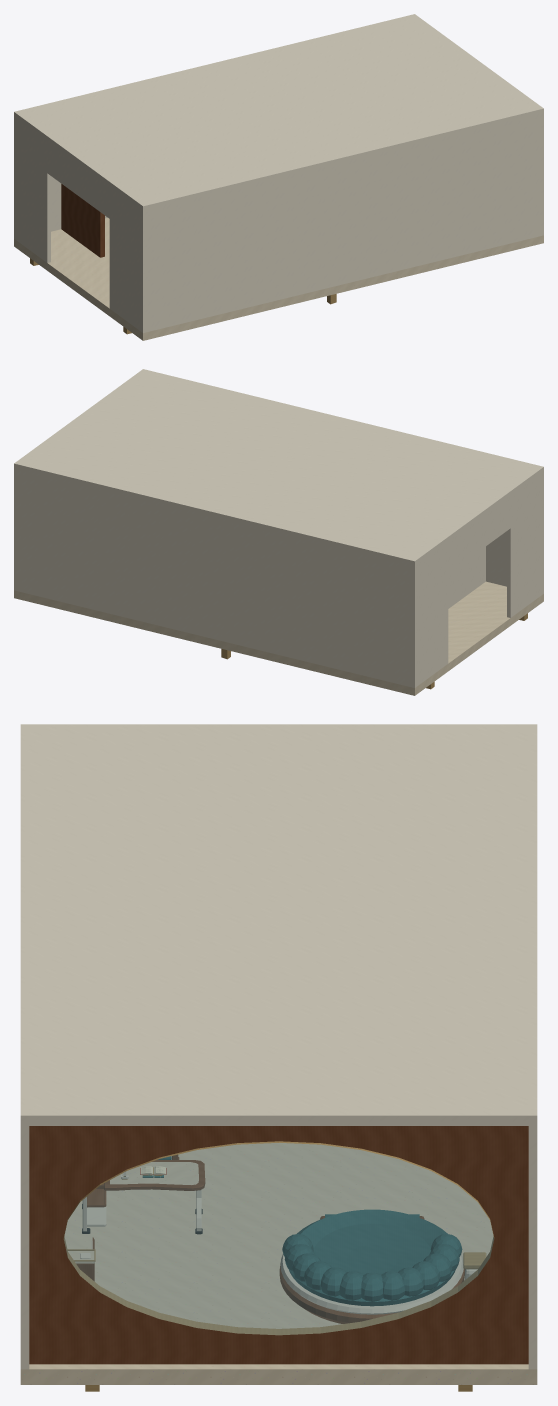
File: StarAtlasSpecialty_491.glb
3 renders of one model, top to bottom at view 1: azimuth 30°, elevation 25°; view 2: azimuth 150°, elevation 25°; view 3: azimuth 270°, elevation 25°, orthographic. The views are drawn at different scales.
Parts seen in each view (by area): view 1: SA491_Ceiling, SA491_SouthSide, SA491_RoomFloor, SA491_EntryShoulderNorth, SA491_EntryShoulderSouth, SA491_EntryHeader, SA491_EntryPrivacyDogleg, SA491_NorthSide; view 2: SA491_Ceiling, SA491_NorthSide, SA491_RoomFloor, SA491_EntryShoulderSouth, SA491_EntryShoulderNorth, SA491_EntryHeader, SA491_WashEntrySide, SA491_SouthSide; view 3: SA491_Ceiling, SA491_OvalAtriumGlass, SA491_OvalWindowReveal, SA491_RoomFloor, SA491_ReservedRestSupport__NestContouredSupport, SA491_ReservedRestSupport, SA491_OvalDepthReturn, SA491_NorthSide, SA491_SouthSide, SA491_ReservedRestSupport__NestEnamelRim, SA491_LibraryStudyEdge__SINGLE_inset_stone_writing_surface, SA491_ReservedRestSupport__NestWeightedPlinth (+1 smaller).
Boxes of the visible parts, x1,y1,x2,y2 form: SA491_Ceiling: (14,14,543,211); SA491_SouthSide: (141,114,543,332); SA491_RoomFloor: (14,218,543,340); SA491_EntryShoulderNorth: (16,119,50,262); SA491_EntryShoulderSouth: (109,188,140,331); SA491_EntryHeader: (46,141,110,219); SA491_EntryPrivacyDogleg: (61,184,104,257); SA491_NorthSide: (14,117,107,239); SA491_Ceiling: (14,369,543,566); SA491_NorthSide: (14,469,416,687); SA491_RoomFloor: (14,581,543,695); SA491_EntryShoulderSouth: (507,474,541,617); SA491_EntryShoulderNorth: (417,542,448,686); SA491_EntryHeader: (448,496,511,573); SA491_WashEntrySide: (448,546,485,608); SA491_SouthSide: (486,472,543,594); SA491_Ceiling: (20,724,537,1125); SA491_OvalAtriumGlass: (64,1143,493,1334); SA491_OvalWindowReveal: (29,1126,528,1364); SA491_RoomFloor: (20,1143,537,1384); SA491_ReservedRestSupport__NestContouredSupport: (289,1209,455,1306); SA491_ReservedRestSupport: (282,1234,462,1301); SA491_OvalDepthReturn: (63,1141,494,1335); SA491_NorthSide: (528,1126,537,1369); SA491_SouthSide: (20,1126,29,1369); SA491_ReservedRestSupport__NestEnamelRim: (280,1254,463,1314); SA491_LibraryStudyEdge__SINGLE_inset_stone_writing_surface: (110,1162,198,1184); SA491_ReservedRestSupport__NestWeightedPlinth: (279,1266,464,1323).
Size of the model in its own units: 12.9 by 4.91 by 7.2.
52 materials, 46 textured.
